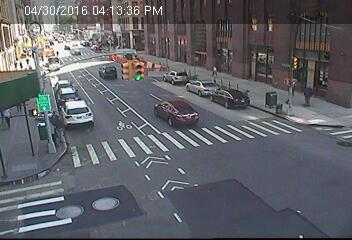neg: (141, 146, 162, 173), (256, 12, 274, 36), (80, 63, 98, 86), (208, 98, 225, 122), (176, 19, 193, 41), (296, 17, 312, 39), (253, 134, 268, 155), (103, 115, 118, 135), (214, 156, 228, 176), (113, 198, 126, 216), (256, 58, 269, 75), (326, 55, 338, 71), (159, 63, 170, 78), (131, 64, 142, 78), (212, 3, 223, 17), (200, 45, 211, 59), (256, 99, 265, 112), (28, 105, 37, 117), (177, 105, 186, 117), (110, 14, 117, 24), (83, 25, 90, 34), (7, 29, 14, 38), (28, 27, 34, 36), (38, 43, 44, 51), (59, 32, 64, 39), (157, 28, 160, 32), (161, 14, 164, 18)
pos: (42, 110, 65, 140), (46, 114, 68, 143), (300, 85, 316, 107), (283, 82, 298, 102), (209, 63, 220, 77), (22, 54, 31, 66), (12, 60, 19, 69), (17, 60, 23, 68), (54, 49, 60, 56)
